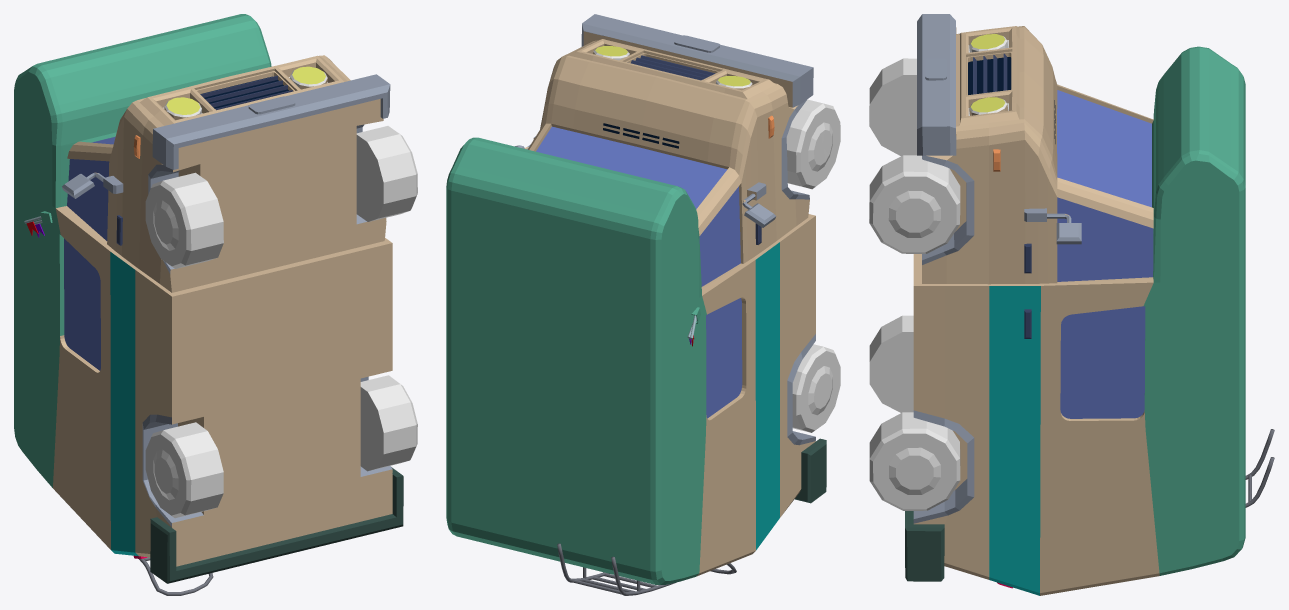
The model's file is Van 1.fbx.
The picture shows the model from 3 angles, left to right: view 1: azimuth 30°, elevation 25°; view 2: azimuth 150°, elevation 25°; view 3: azimuth 270°, elevation 25°; orthographic projection. The views are drawn at different scales.
Visible parts, largest first — view 1: Van; view 2: Van, Ladder; view 3: Van, Ladder.
Part boxes in pixels (x1,y1,x2,y2): Van: (14, 14, 417, 583); Van: (446, 14, 840, 584); Ladder: (557, 543, 736, 595); Van: (869, 14, 1245, 595); Ladder: (1245, 429, 1274, 507).
Bounding box in the file's own units: 2.97 × 5.14 × 3.64.
